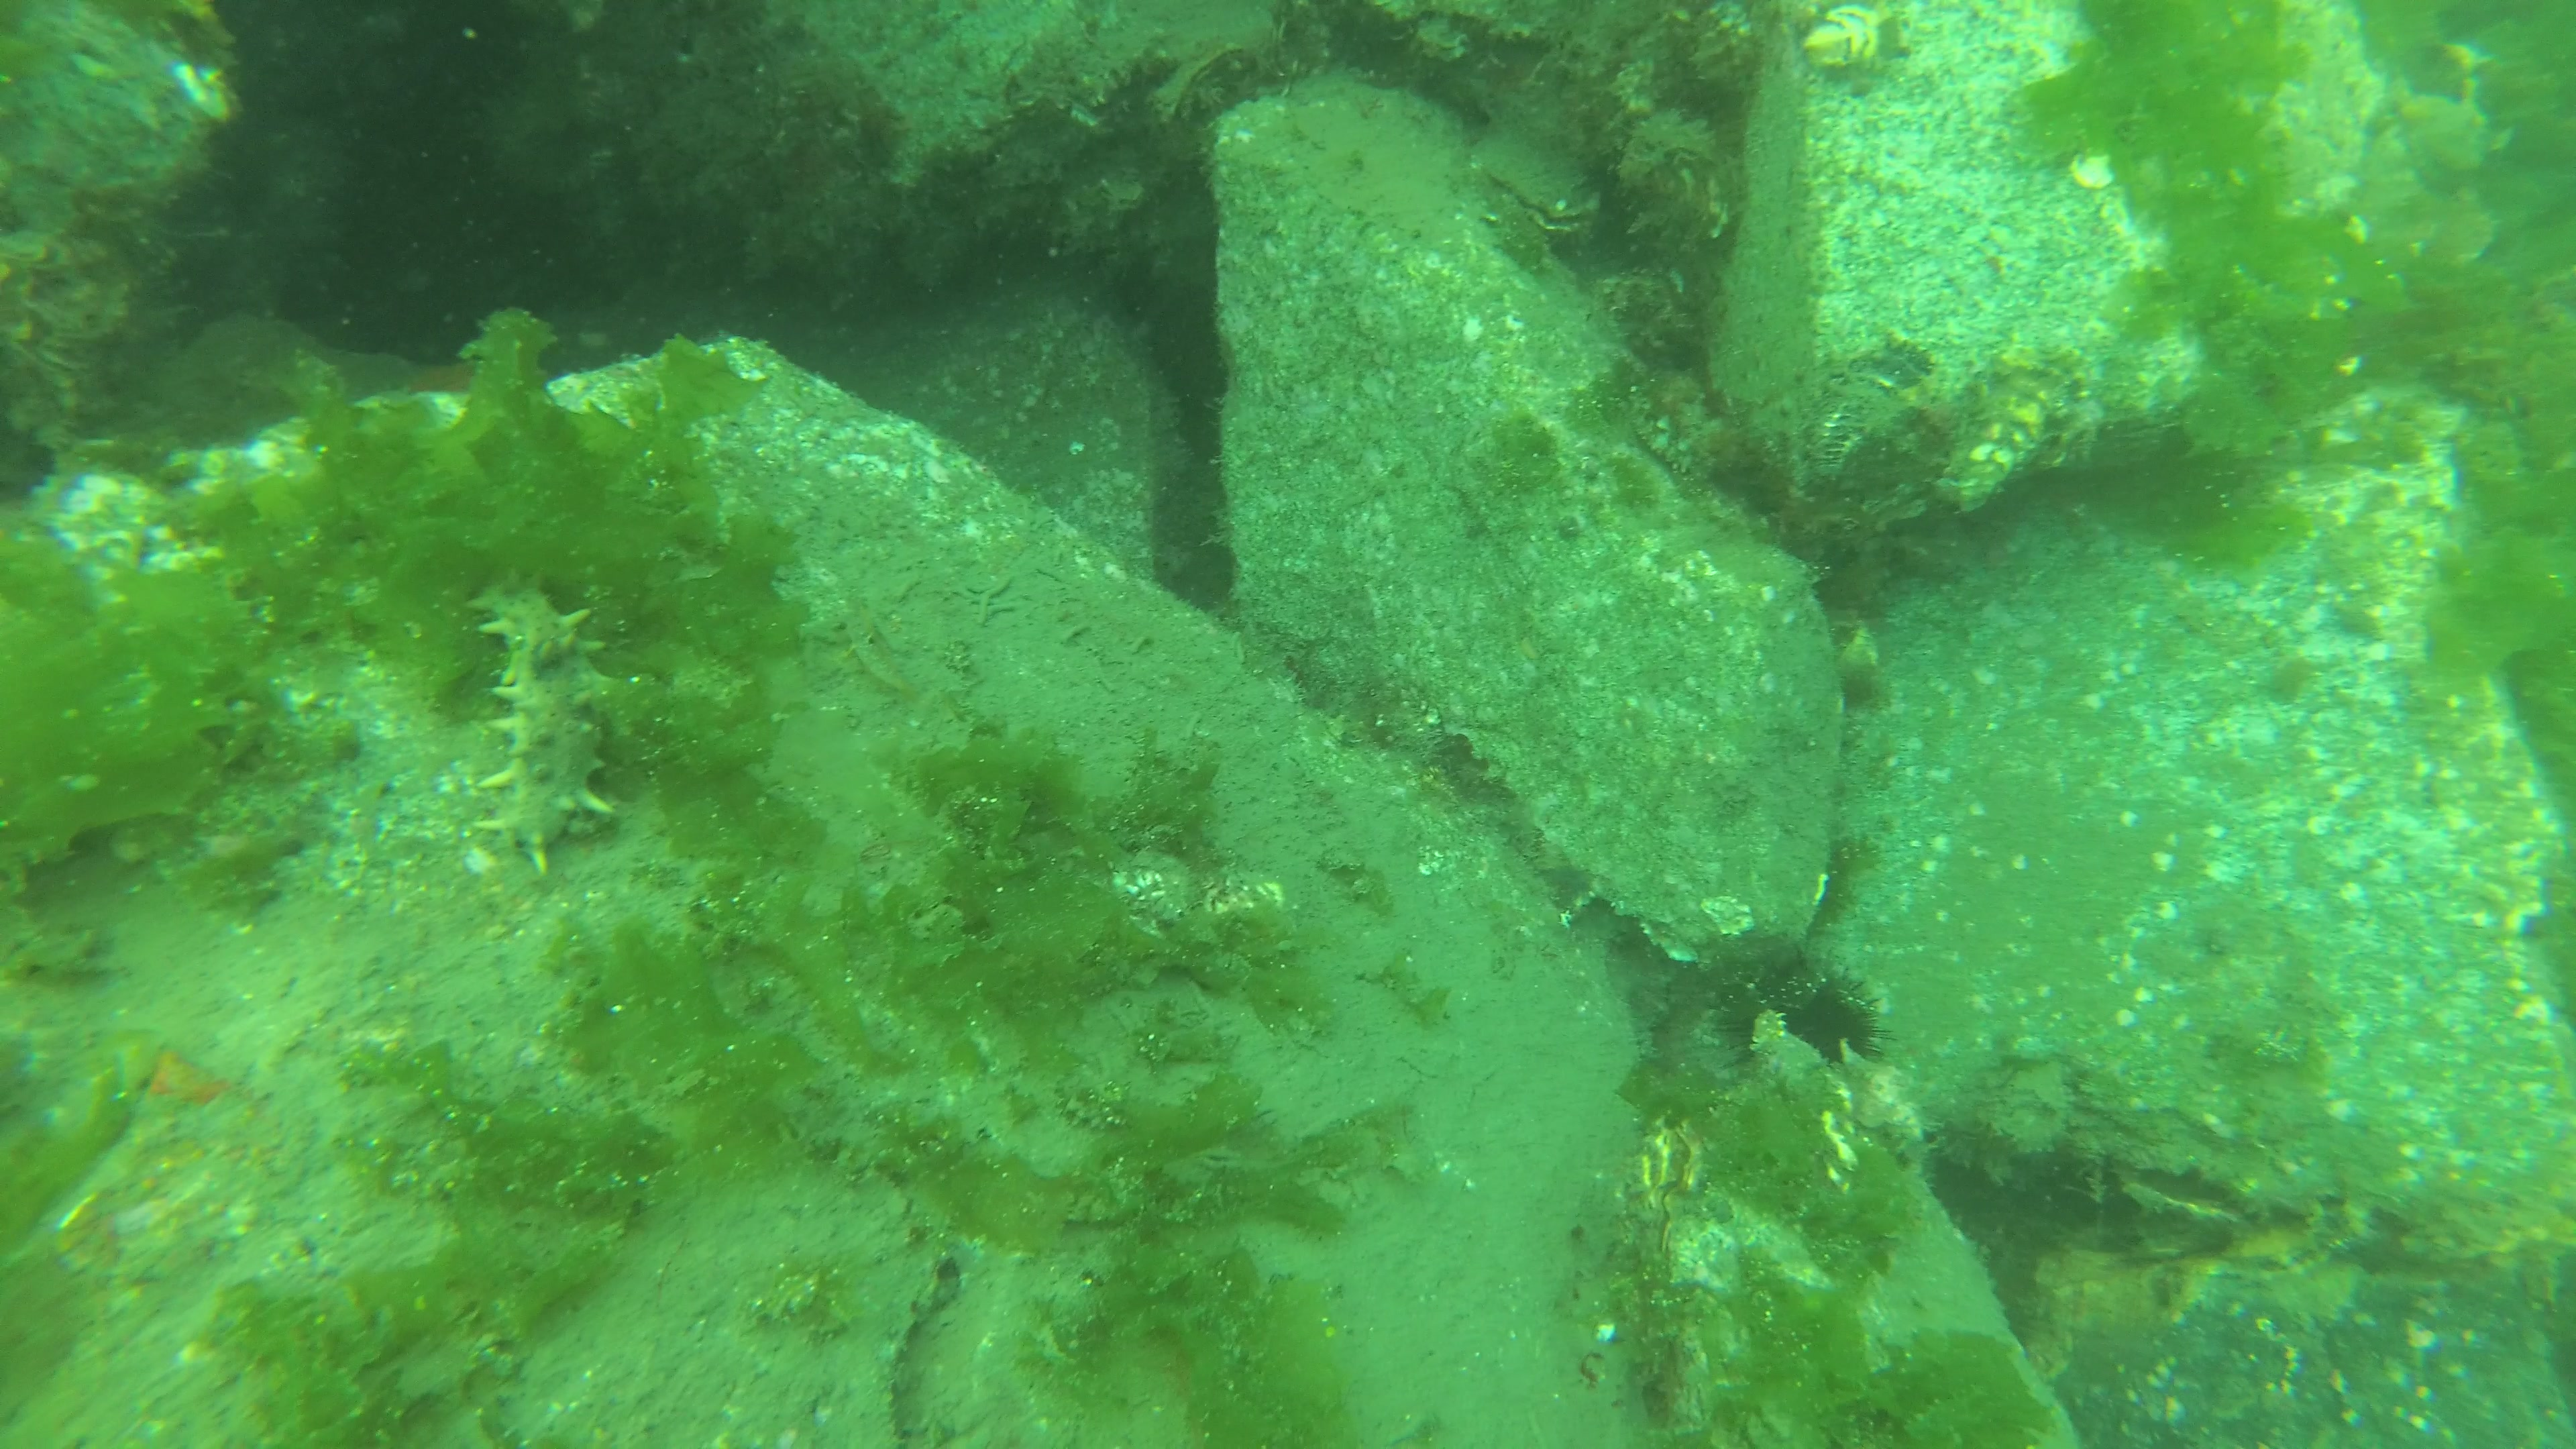echinus: (1709, 950, 1890, 1074)
holothurian: (467, 566, 621, 874)
